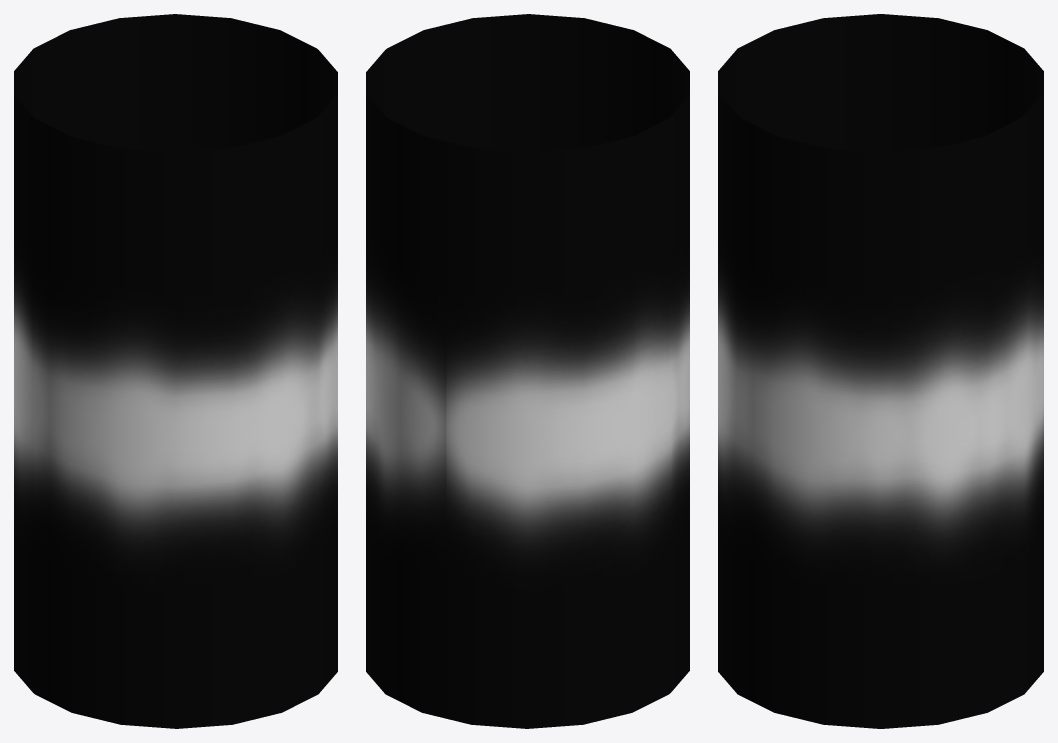
File: halo marca.FBX
The picture shows the model from 3 angles, left to right: view 1: azimuth 30°, elevation 25°; view 2: azimuth 150°, elevation 25°; view 3: azimuth 270°, elevation 25°; orthographic projection.
Parts seen in each view (by area): view 1: Cylinder001; view 2: Cylinder001; view 3: Cylinder001.
Part boxes in pixels (x1=…): Cylinder001: x1=14, y1=14, x2=337, y2=728; Cylinder001: x1=366, y1=14, x2=689, y2=728; Cylinder001: x1=718, y1=14, x2=1043, y2=728.
Bounding box in the file's own units: 23.08 × 44.77 × 22.94.
